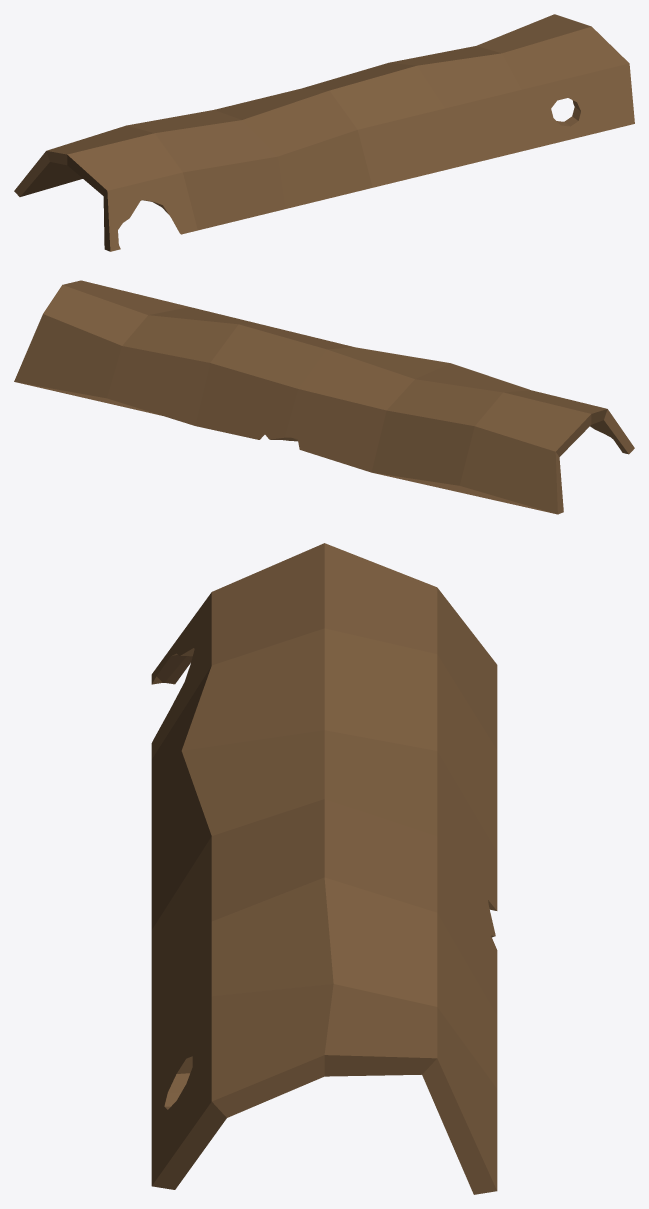
File: log half.fbx
The picture shows the model from 3 angles, top to bottom: view 1: azimuth 30°, elevation 25°; view 2: azimuth 150°, elevation 25°; view 3: azimuth 270°, elevation 25°; orthographic projection. The views are drawn at different scales.
Parts seen in each view (by area): view 1: Trunk half; view 2: Trunk half; view 3: Trunk half.
Boxes of the visible parts, x1,y1,x2,y2 form: Trunk half: (14,14,634,251); Trunk half: (14,280,634,514); Trunk half: (151,543,497,1194).
Size of the model in its own units: 1434 by 188 by 394.
